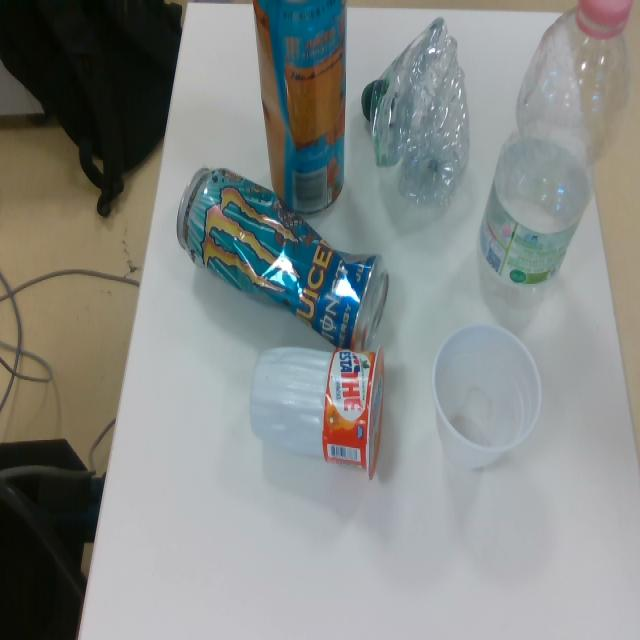aluminum: (178, 165, 388, 353), (249, 0, 348, 218)
plastic: (472, 0, 640, 306), (361, 20, 473, 222), (250, 346, 384, 482), (431, 321, 542, 476)
